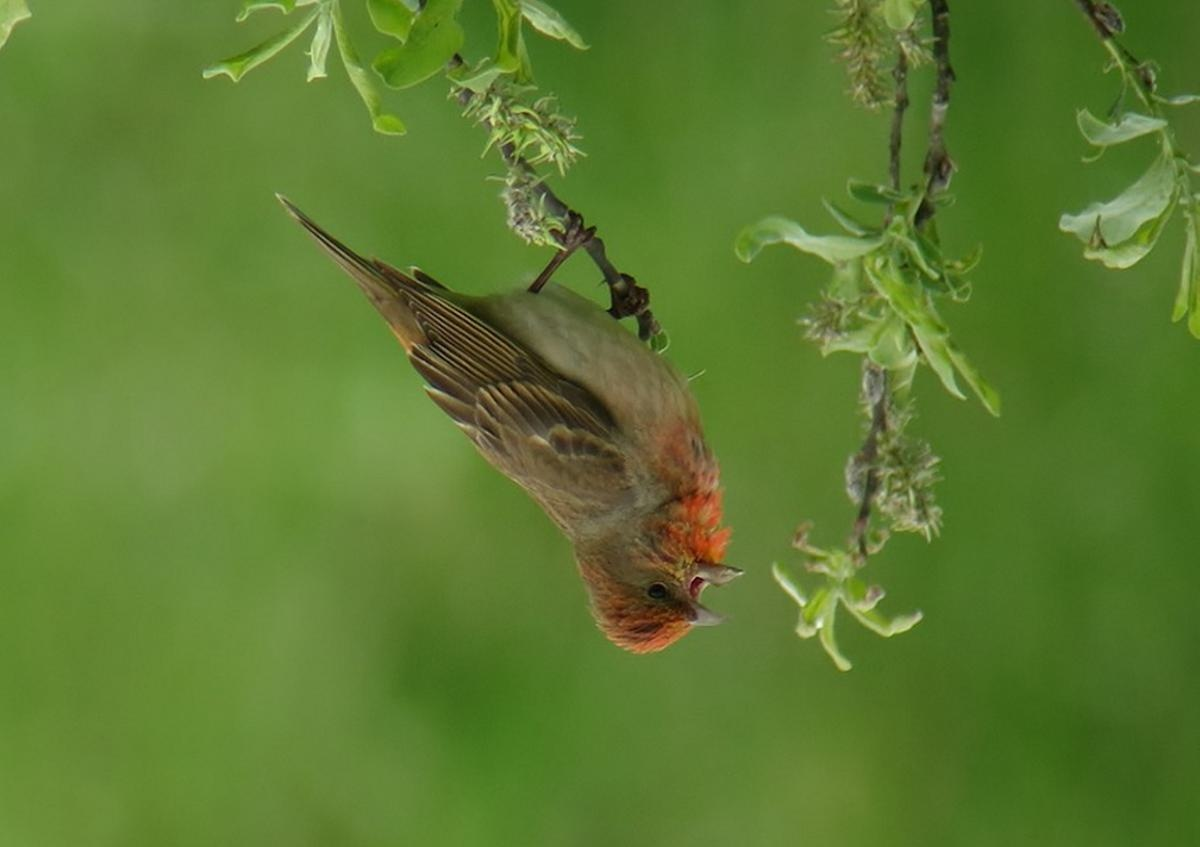rosefinch: (293, 180, 751, 660)
